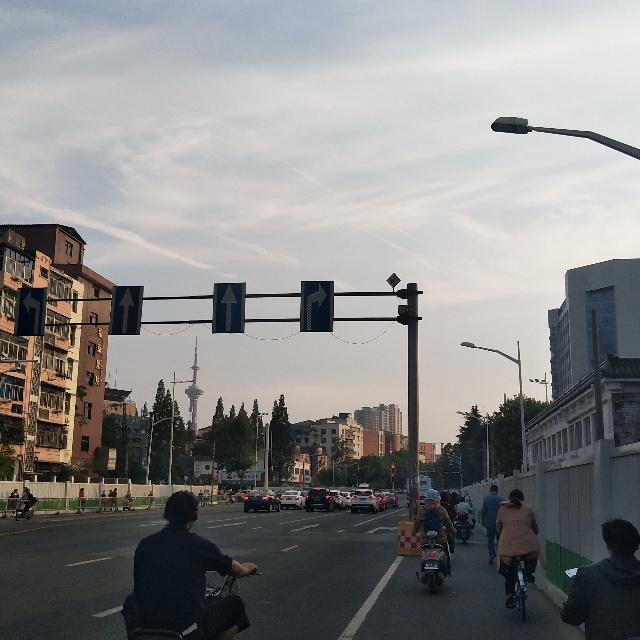left: (13, 285, 45, 341)
right: (298, 278, 337, 333)
straight: (114, 283, 147, 337), (217, 280, 242, 333)
